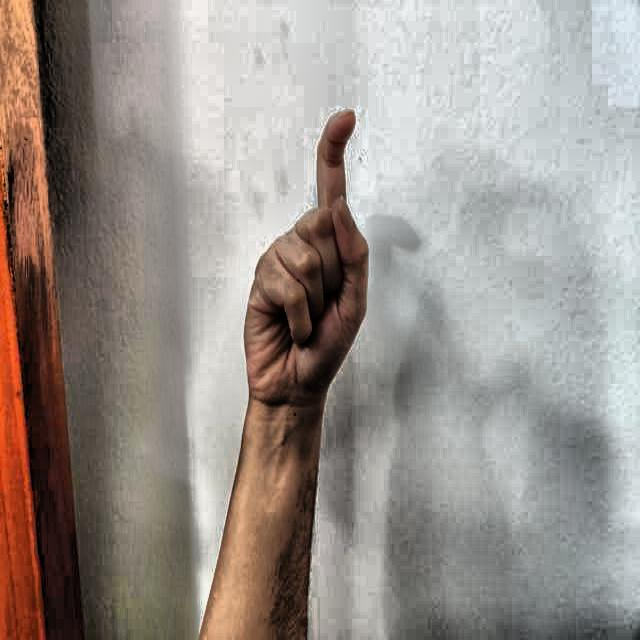E: (218, 95, 393, 424)
